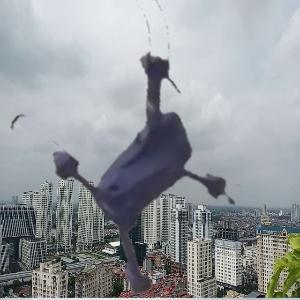drone: (4, 9, 265, 270)
